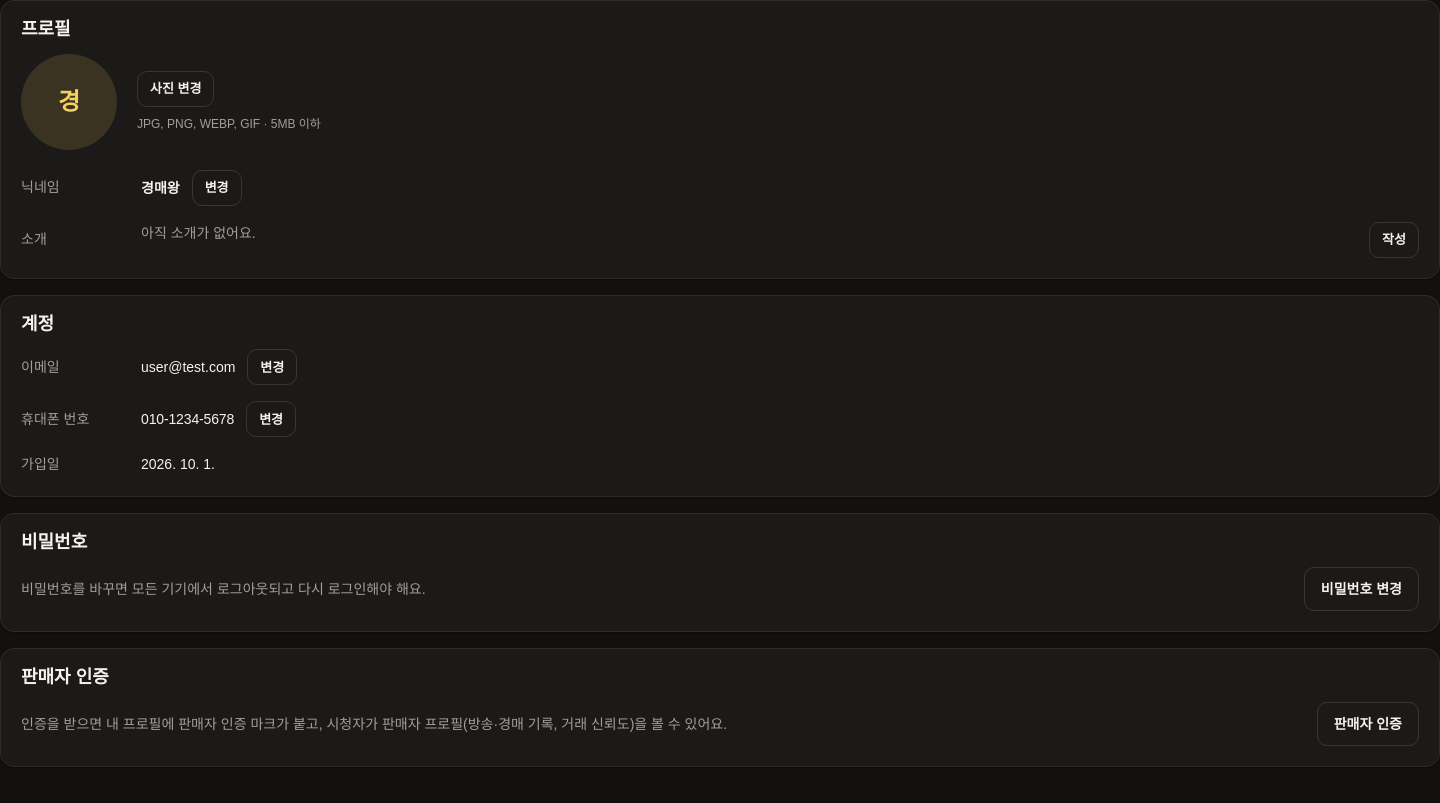
it: MyInfoContent 소개·프로필 사진 › 소개를 적어 저장하면 소개만 보내고, 저장한 소개를 보여준다
This screenshot has width=1440, height=803.
Click the button "작성" at (1394, 240), box [1369, 222, 1419, 258]
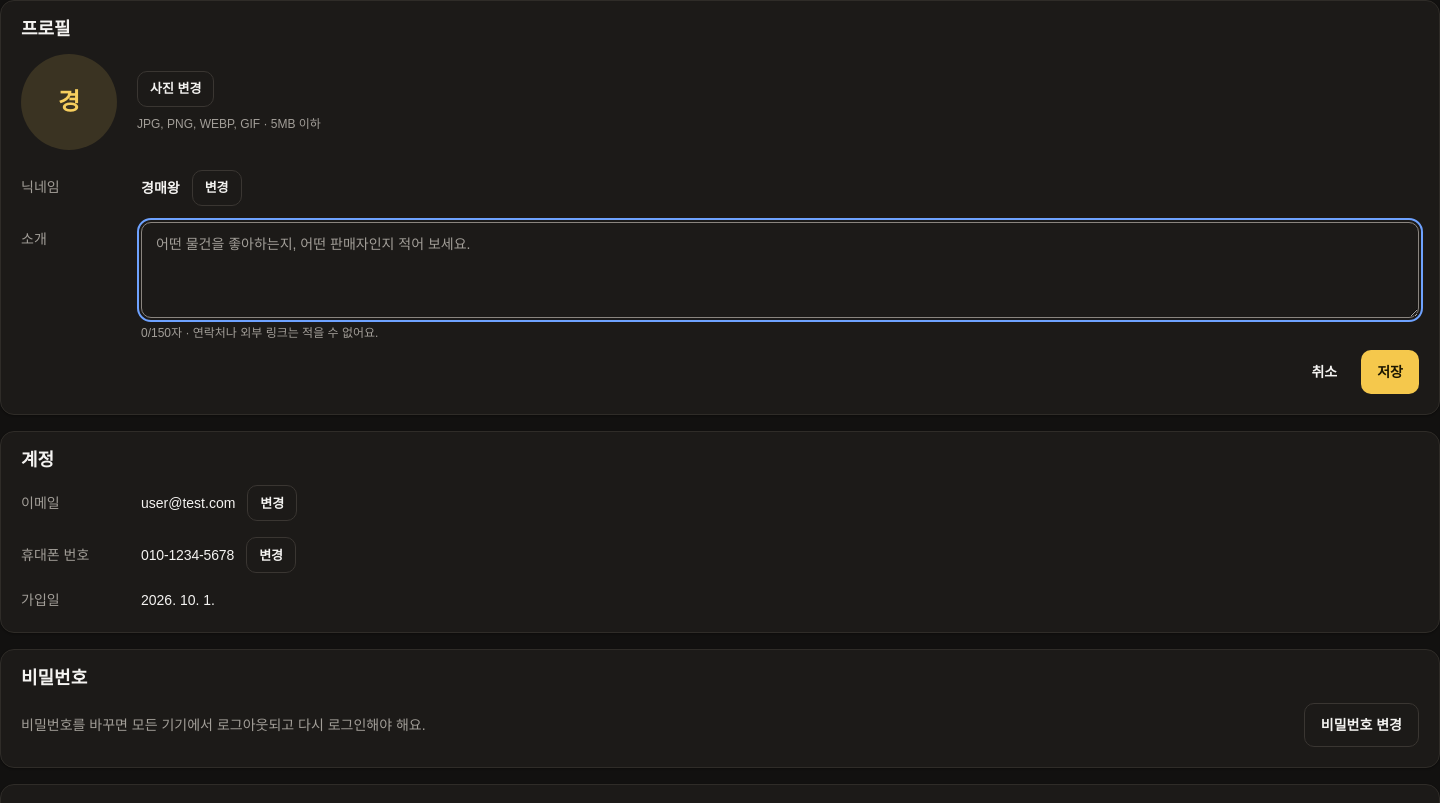
Type "  빈티지 카메라를 모아요 " into the text box named "자기소개" at (780, 270), box [141, 222, 1419, 318]
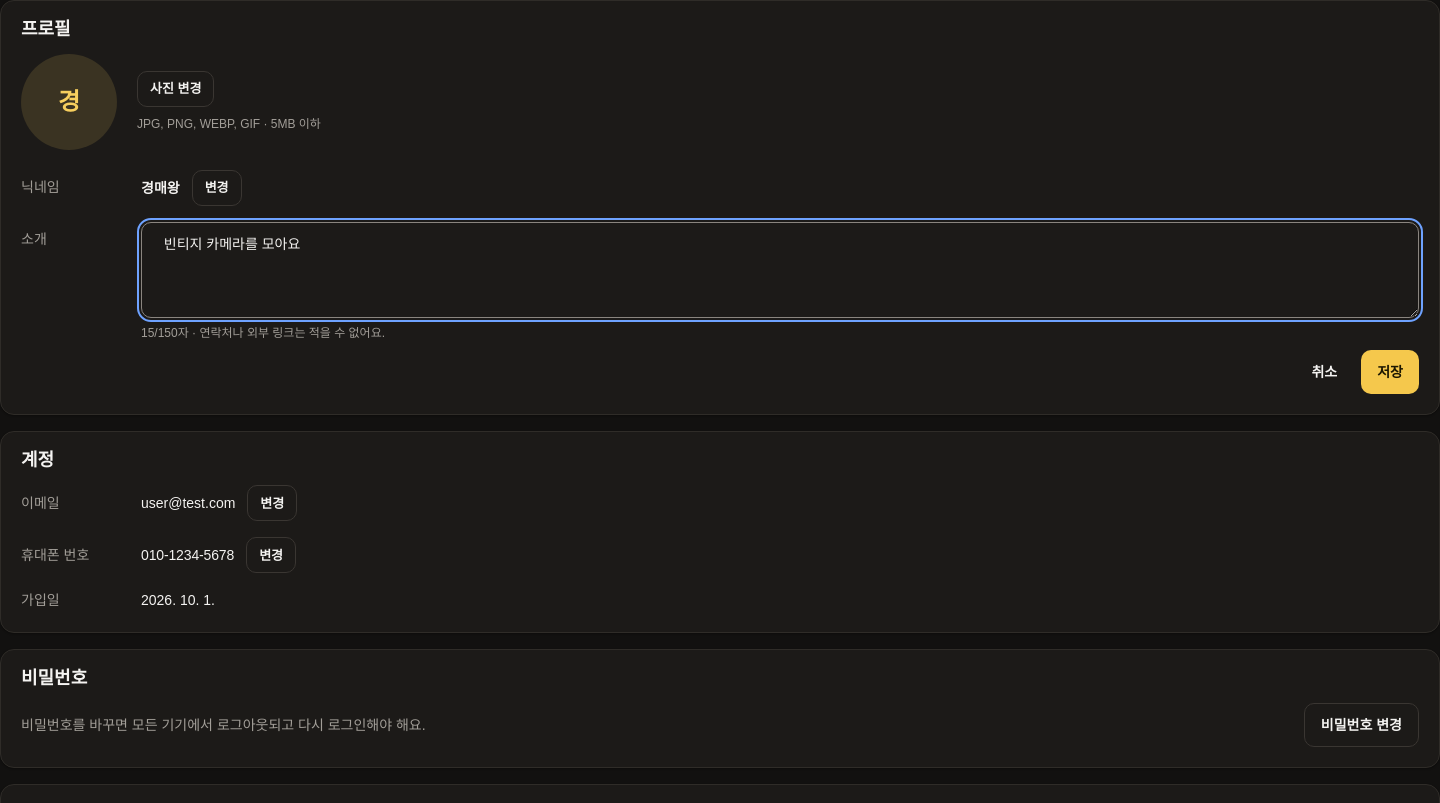
Click the button "저장" at (1390, 372), box [1361, 350, 1419, 394]
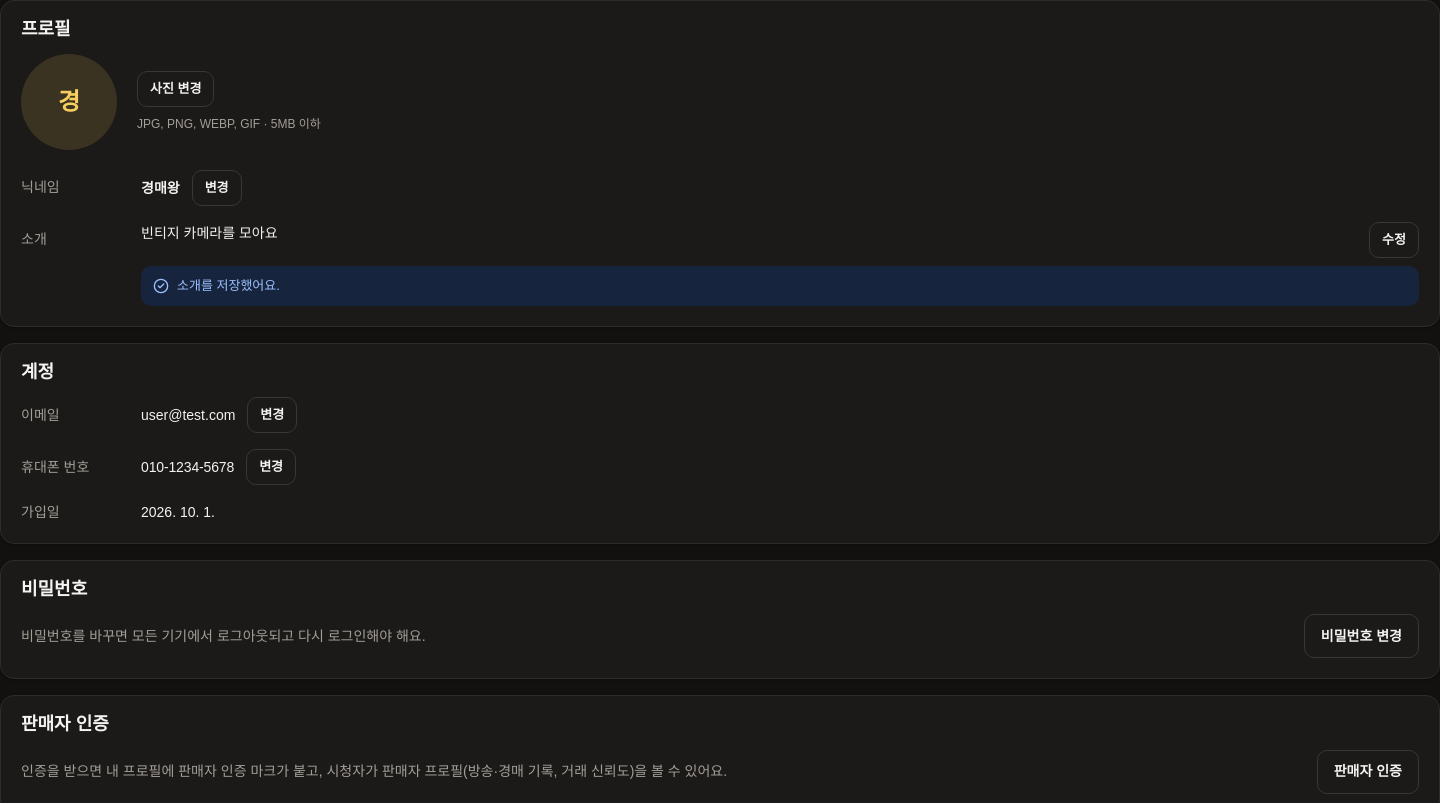
Now the text "소개를 저장했어요." is shown, box [177, 276, 280, 296]
Now the text "빈티지 카메라를 모아요" is shown, box [141, 225, 278, 241]
